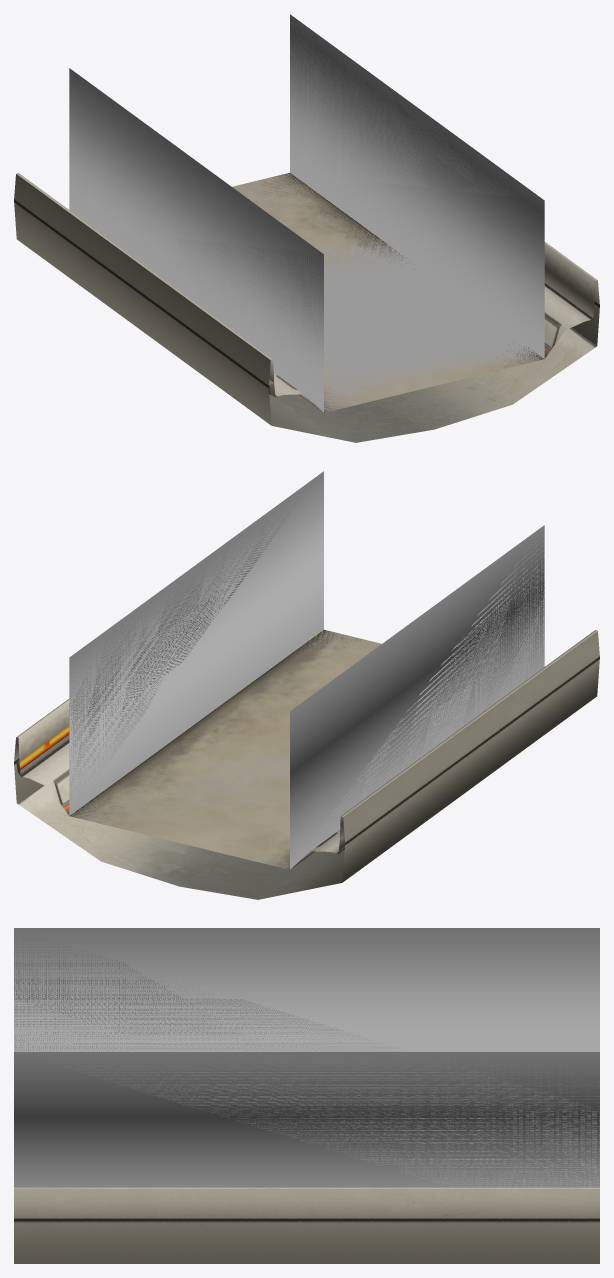
File: road_straight.fbx
3 views of the same model, one above another, from view 1: azimuth 30°, elevation 25°; view 2: azimuth 150°, elevation 25°; view 3: azimuth 270°, elevation 25° (orthographic). The views are drawn at different scales.
Parts seen in each view (by area): view 1: colider, road_straight; view 2: colider, road_straight; view 3: colider, road_straight.
Boxes of the visible parts, <box> form: colider: <box>69,14,544,412</box>; road_straight: <box>14,173,599,442</box>; colider: <box>69,471,544,869</box>; road_straight: <box>14,629,599,899</box>; colider: <box>14,928,599,1186</box>; road_straight: <box>14,1187,599,1263</box>.
Size of the model in its own units: 24.02 by 14.01 by 32.
4 materials, 3 textured.
